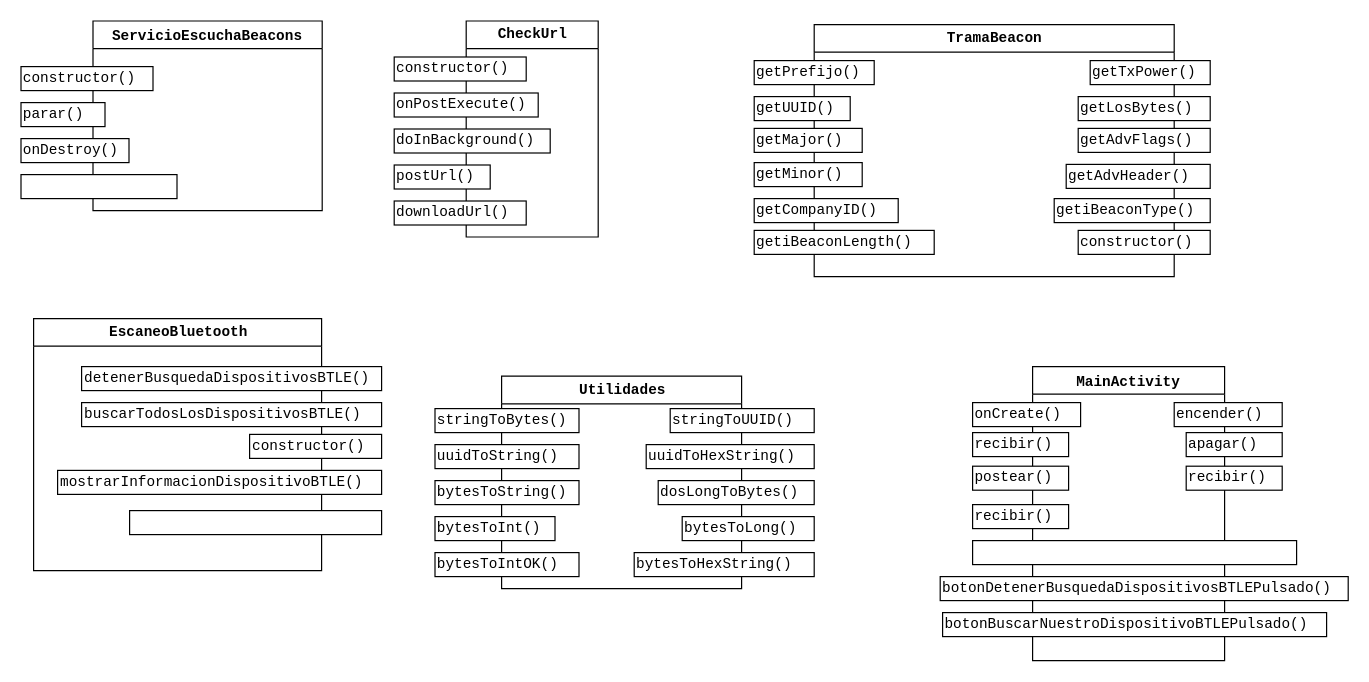
This 1369x682 diagram has some shape labels left out. The centre of each missing label's shape, as x and y in pixels:
botonBuscarDispositivosBTLEPulsado(): the point at 1134,552
buscarEsteDispositivoBTLE(): the point at 255,522
onHandleIntent(): the point at 98,186
